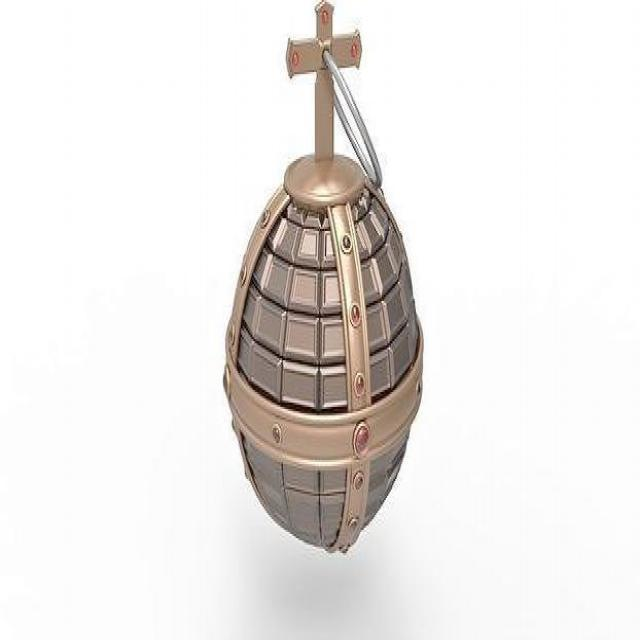Grenade: (224, 2, 424, 555)
